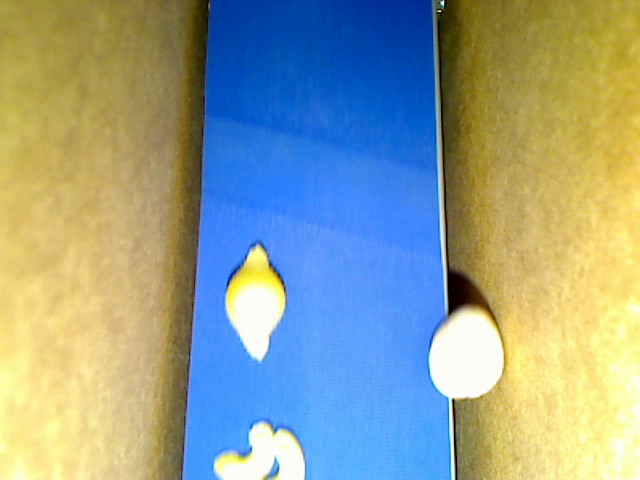elbow: (211, 419, 275, 479), (265, 427, 306, 479)
shell: (225, 242, 287, 362)
